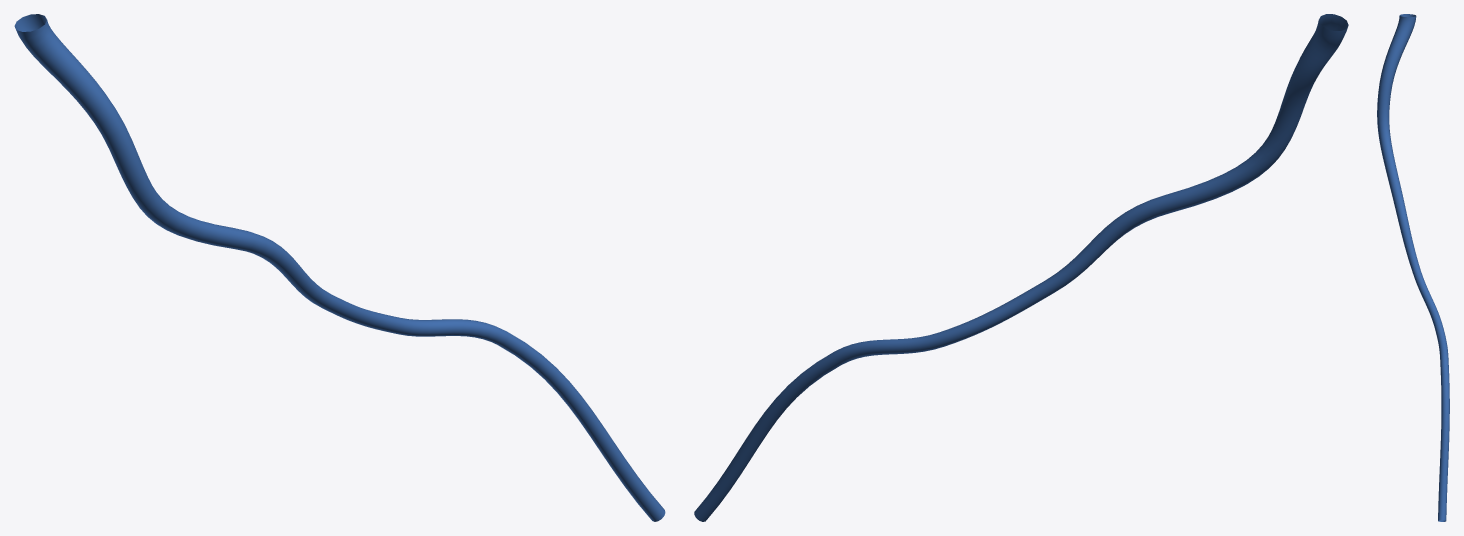
The picture shows the model from 3 angles, left to right: view 1: azimuth 30°, elevation 25°; view 2: azimuth 150°, elevation 25°; view 3: azimuth 270°, elevation 25°; orthographic projection. The views are drawn at different scales.
Parts seen in each view (by area): view 1: 右侧岩上窦; view 2: 右侧岩上窦; view 3: 右侧岩上窦.
Boxes of the visible parts, box(x1,y1,x2,y2) form: 右侧岩上窦: box(14, 14, 665, 521); 右侧岩上窦: box(694, 14, 1348, 521); 右侧岩上窦: box(1377, 14, 1449, 521).
Bounding box in the file's own units: 0.0691 × 0.0666 × 0.0127.
